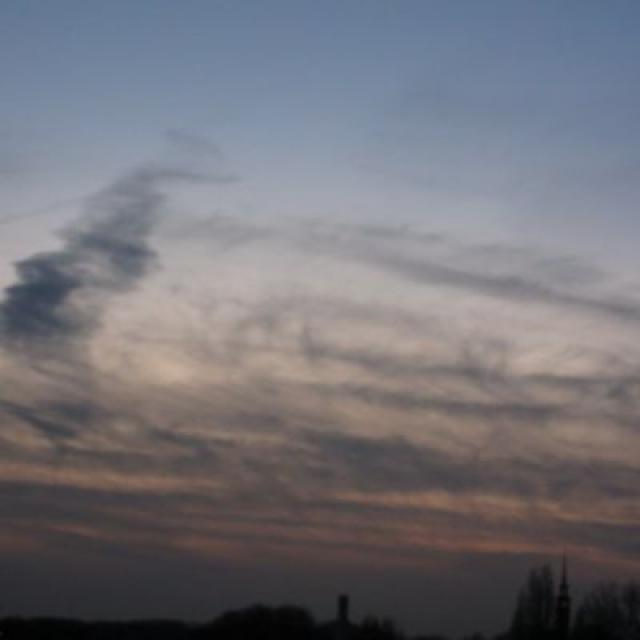Ct: (1, 44, 640, 515)
